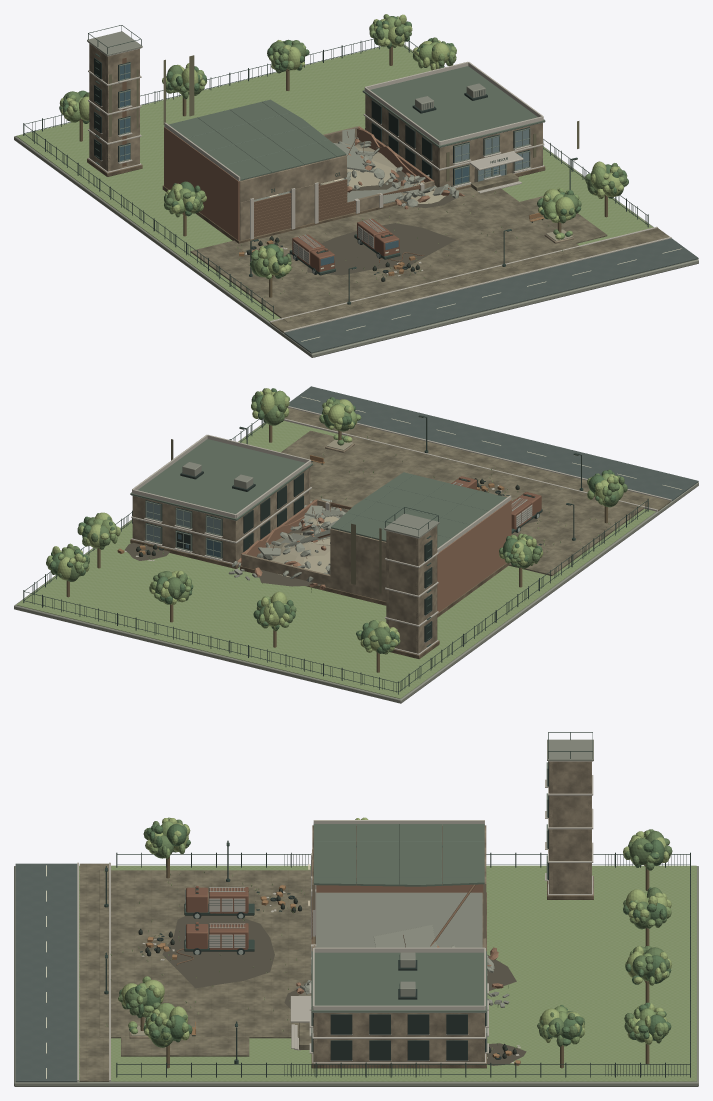
File: fire-station-abandoned.glb
3 renders of one model, top to bottom at view 1: azimuth 30°, elevation 25°; view 2: azimuth 150°, elevation 25°; view 3: azimuth 270°, elevation 25°, orthographic. The views are drawn at different scales.
Parts seen in each view (by area): view 1: 材质批次_grass, 材质批次_plaza_paving, 材质批次_sage_metal_roof, 材质批次_limestone, 材质批次_asphalt, 材质批次_poi_service_concrete, 材质批次_warm_cream_trim, 材质批次_poi_brick_red, 材质批次_street_metal, 材质批次_abandoned_soot_damp, 材质批次_leaf_2, 材质批次_leaf_0 (+13 smaller); view 2: 材质批次_grass, 材质批次_plaza_paving, 材质批次_limestone, 材质批次_sage_metal_roof, 材质批次_asphalt, 材质批次_poi_service_concrete, 材质批次_warm_cream_trim, 材质批次_poi_brick_red, 材质批次_street_metal, 材质批次_leaf_2, 材质批次_leaf_1, 材质批次_recess_shadow (+10 smaller); view 3: 材质批次_grass, 材质批次_plaza_paving, 材质批次_sage_metal_roof, 材质批次_poi_service_concrete, 材质批次_asphalt, 材质批次_limestone, 材质批次_warm_cream_trim, 材质批次_abandoned_soot_damp, 材质批次_street_metal, 材质批次_recess_shadow, 材质批次_leaf_1, 材质批次_leaf_3 (+7 smaller).
Part boxes in pixels (x1,y1,x2,y2): 材质批次_grass: (16, 45, 691, 352); 材质批次_plaza_paving: (190, 173, 669, 332); 材质批次_sage_metal_roof: (168, 66, 545, 180); 材质批次_limestone: (89, 43, 574, 243); 材质批次_asphalt: (284, 238, 698, 353); 材质批次_poi_service_concrete: (14, 31, 698, 357); 材质批次_warm_cream_trim: (88, 42, 671, 332); 材质批次_poi_brick_red: (164, 126, 464, 240); 材质批次_street_metal: (23, 25, 648, 318); 材质批次_abandoned_soot_damp: (307, 141, 523, 275); 材质批次_leaf_2: (59, 14, 623, 318); 材质批次_leaf_0: (60, 14, 627, 296); 材质批次_grass: (16, 421, 655, 698); 材质批次_plaza_paving: (281, 407, 670, 575); 材质批次_limestone: (132, 443, 437, 653); 材质批次_sage_metal_roof: (130, 439, 506, 548); 材质批次_asphalt: (289, 386, 698, 501); 材质批次_poi_service_concrete: (14, 423, 698, 703); 材质批次_warm_cream_trim: (124, 406, 671, 654); 材质批次_poi_brick_red: (237, 499, 511, 611); 材质批次_street_metal: (23, 415, 648, 694); 材质批次_leaf_2: (52, 388, 642, 652); 材质批次_leaf_1: (46, 388, 627, 652); 材质批次_recess_shadow: (145, 471, 542, 642); 材质批次_grass: (79, 865, 696, 1081); 材质批次_plaza_paving: (79, 863, 311, 1081); 材质批次_sage_metal_roof: (311, 824, 486, 1012); 材质批次_poi_service_concrete: (14, 739, 698, 1086); 材质批次_asphalt: (15, 863, 77, 1082); 材质批次_limestone: (129, 761, 591, 1062); 材质批次_warm_cream_trim: (77, 761, 593, 1081); 材质批次_abandoned_soot_damp: (162, 915, 526, 1065); 材质批次_street_metal: (104, 732, 690, 1077); 材质批次_recess_shadow: (140, 761, 548, 1060); 材质批次_leaf_1: (106, 819, 672, 1056); 材质批次_leaf_3: (119, 824, 671, 1045).
Size of the model in its own units: 61.63 by 19.84 by 80.
Materials: 31 (5 with a texture image).
